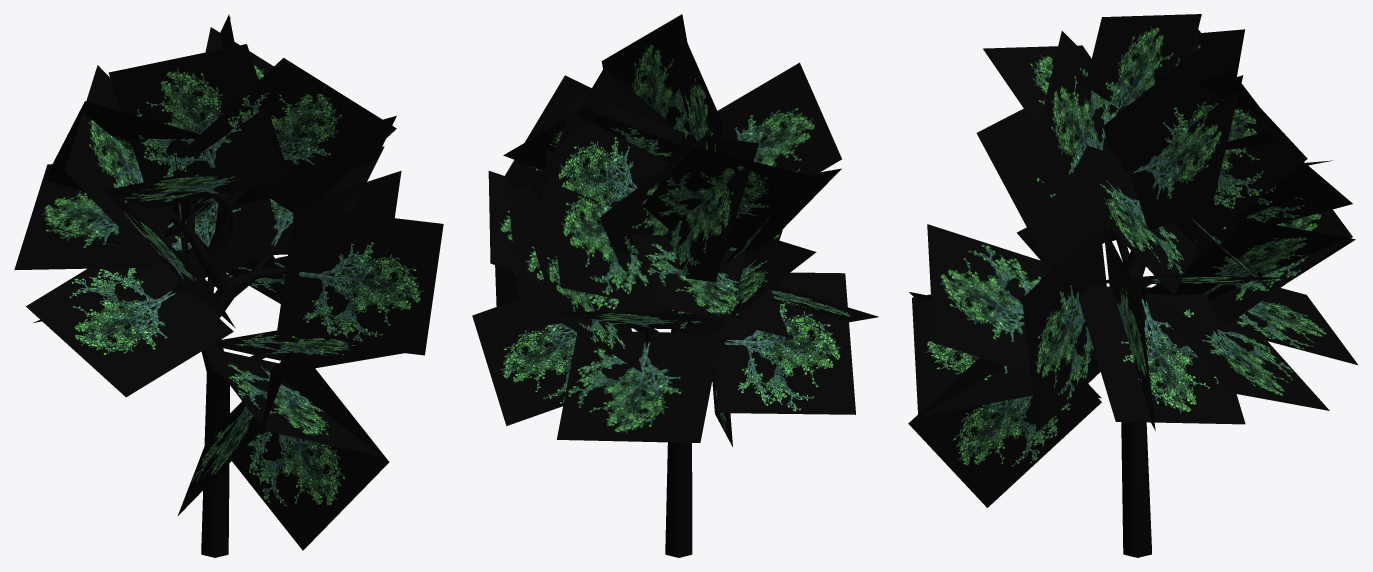
File: tree63.glb
The picture shows the model from 3 angles, left to right: view 1: azimuth 30°, elevation 25°; view 2: azimuth 150°, elevation 25°; view 3: azimuth 270°, elevation 25°; orthographic projection. The views are drawn at different scales.
Size of the model in its own units: 5.14 by 6.87 by 5.18.
2 materials, 1 textured.
